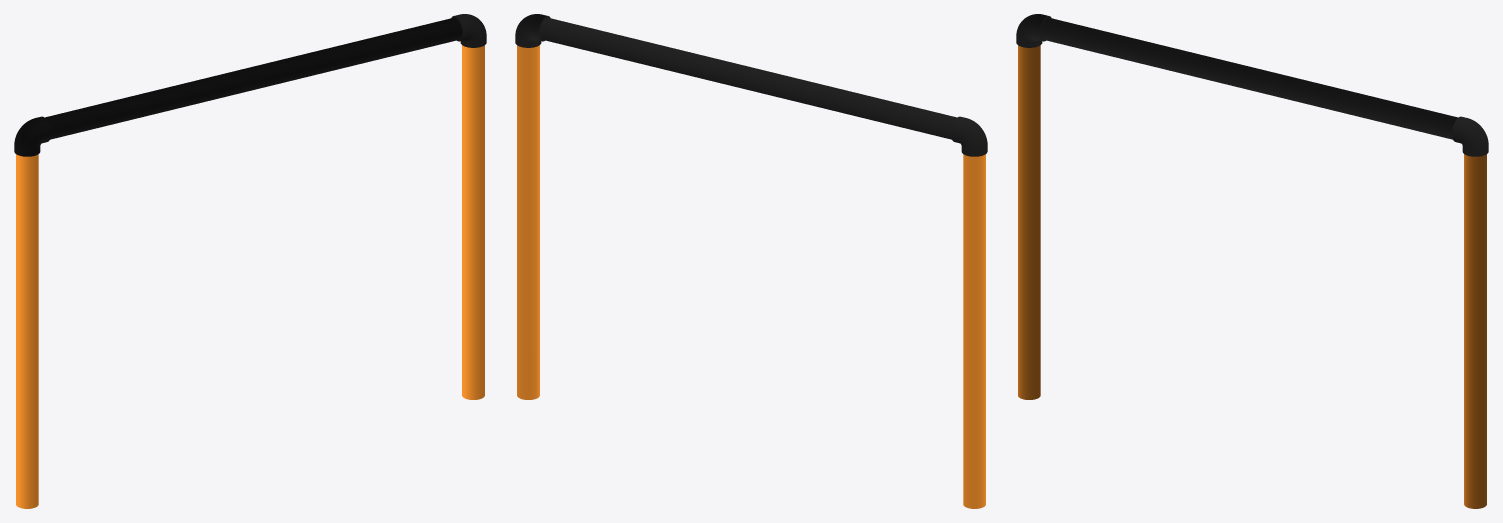
The model's file is quali_gate.dae.
3 views of the same model, side by side, from view 1: azimuth 30°, elevation 25°; view 2: azimuth 150°, elevation 25°; view 3: azimuth 330°, elevation 25° (orthographic).
Parts seen in each view (by area): view 1: horizontal_pvc, left, right, corner_left, corner_right; view 2: horizontal_pvc, left, right, corner_left, corner_right; view 3: horizontal_pvc, right, left, corner_right, corner_left.
Boxes of the visible parts, <box> form: horizontal_pvc: <box>44,17,462,139</box>; left: <box>16,154,38,508</box>; right: <box>462,45,484,399</box>; corner_left: <box>14,116,50,156</box>; corner_right: <box>451,14,486,47</box>; horizontal_pvc: <box>539,17,957,139</box>; left: <box>963,154,985,508</box>; right: <box>517,45,539,399</box>; corner_left: <box>951,116,987,156</box>; corner_right: <box>515,14,550,47</box>; horizontal_pvc: <box>1040,17,1458,139</box>; right: <box>1464,154,1486,508</box>; left: <box>1018,45,1040,399</box>; corner_right: <box>1452,116,1488,156</box>; corner_left: <box>1016,14,1051,47</box>.
Size of the model in its own units: 2.1 by 0.1016 by 1.64.
